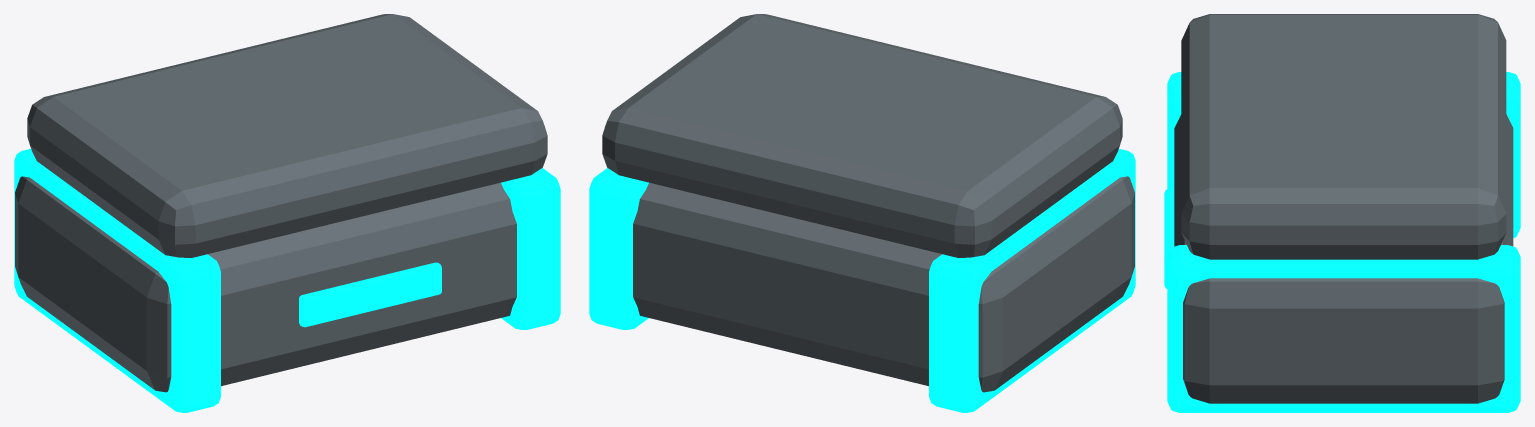
File: CargoCase_Common.glb
3 renders of one model, left to right at view 1: azimuth 30°, elevation 25°; view 2: azimuth 150°, elevation 25°; view 3: azimuth 270°, elevation 25°, orthographic. The views are drawn at different scales.
Visible parts, largest first — view 1: CargoCase_Common_Lid, CargoCase_Common, CargoCase_Common_Corner_L, CargoCase_Common_Corner_R, CargoCase_Common_Mark; view 2: CargoCase_Common_Lid, CargoCase_Common, CargoCase_Common_Corner_L, CargoCase_Common_Corner_R; view 3: CargoCase_Common_Lid, CargoCase_Common, CargoCase_Common_Corner_R, CargoCase_Common_Corner_L, CargoCase_Common_Mark.
Part boxes in pixels (bbox=[...]): CargoCase_Common_Lid: bbox=[27, 14, 547, 257]; CargoCase_Common: bbox=[15, 176, 516, 392]; CargoCase_Common_Corner_L: bbox=[14, 148, 220, 412]; CargoCase_Common_Corner_R: bbox=[501, 168, 560, 329]; CargoCase_Common_Mark: bbox=[299, 262, 441, 327]; CargoCase_Common_Lid: bbox=[602, 14, 1122, 257]; CargoCase_Common: bbox=[633, 176, 1134, 392]; CargoCase_Common_Corner_L: bbox=[929, 148, 1135, 412]; CargoCase_Common_Corner_R: bbox=[589, 168, 648, 329]; CargoCase_Common_Lid: bbox=[1181, 14, 1506, 259]; CargoCase_Common: bbox=[1174, 114, 1513, 403]; CargoCase_Common_Corner_R: bbox=[1167, 245, 1520, 412]; CargoCase_Common_Corner_L: bbox=[1167, 72, 1520, 237]; CargoCase_Common_Mark: bbox=[1164, 189, 1174, 288].
Size of the model in its own units: 1.4 by 0.68 by 1.01.
